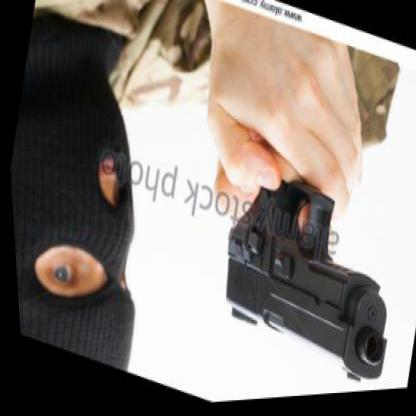pistol: (200, 152, 414, 400)
